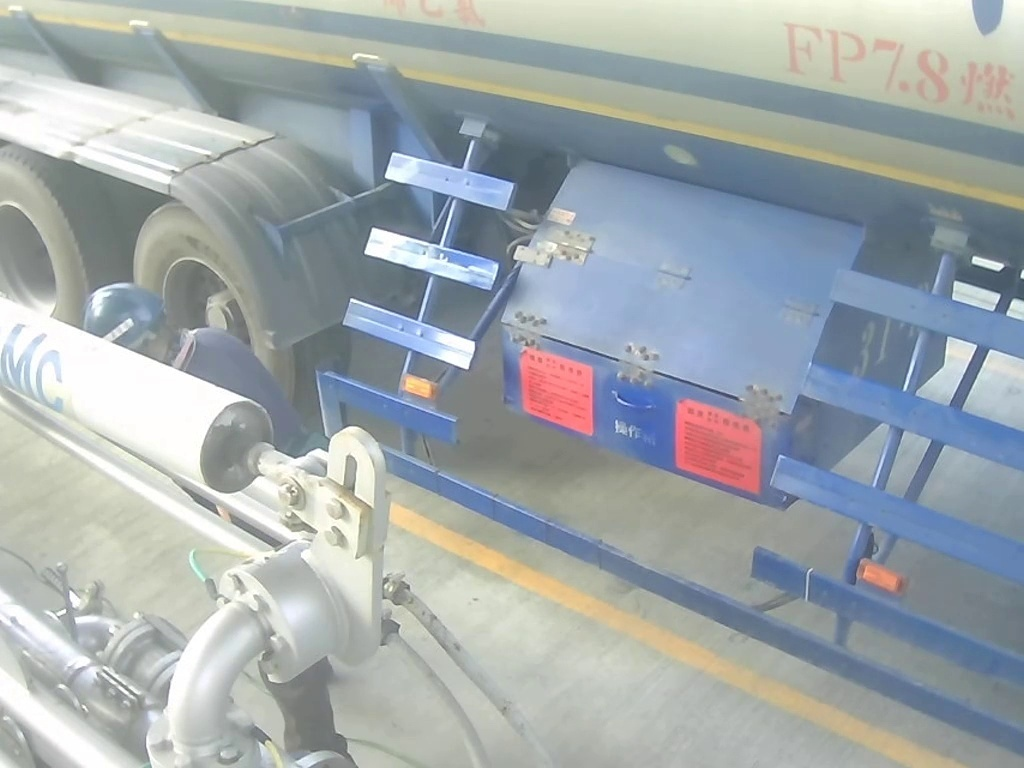helmet: (75, 277, 187, 392)
person: (74, 271, 407, 768)
